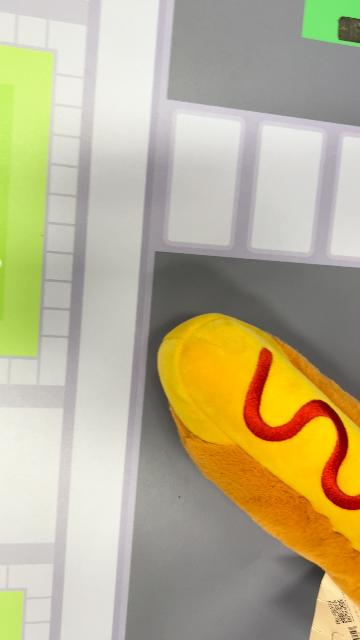hotdog: (156, 310, 360, 608)
